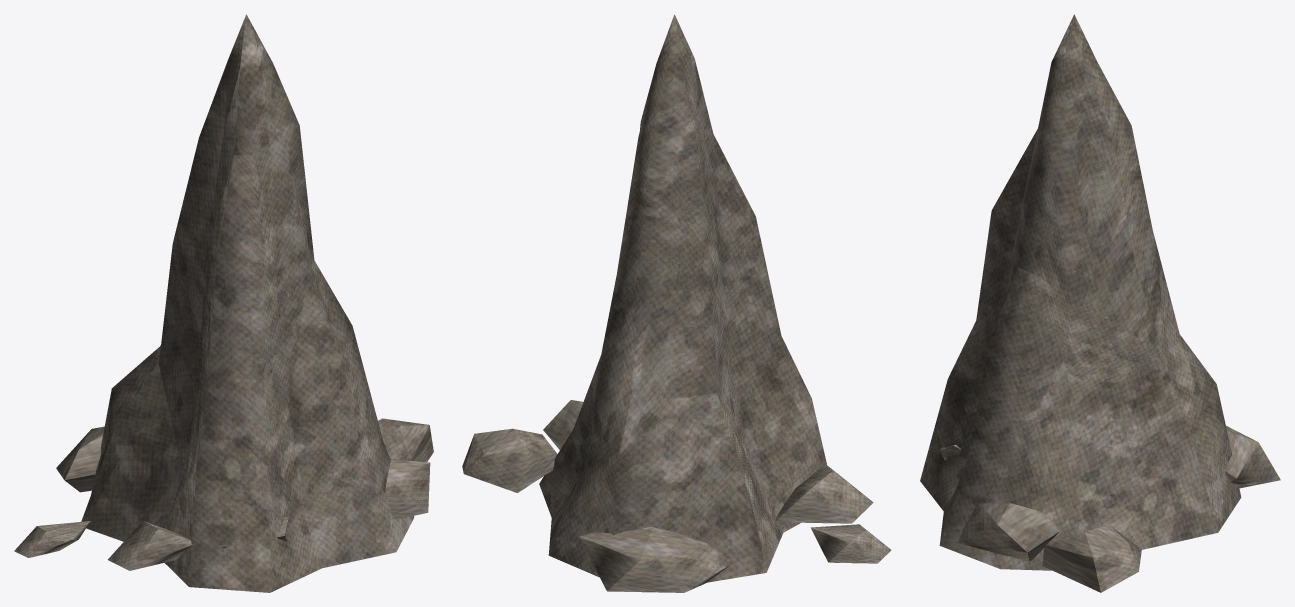
The model's file is ultiTierra.fbx.
3 renders of one model, left to right at view 1: azimuth 30°, elevation 25°; view 2: azimuth 150°, elevation 25°; view 3: azimuth 270°, elevation 25°, orthographic. The views are drawn at different scales.
Visible parts, largest first — view 1: m8, m4, m2, m5, m0, m1; view 2: m8, m0, m5, m4, m1, m2; view 3: m8, m5, m2, m0.
Part boxes in pixels (x1,y1,x2,y2): m8: (81,14,414,592); m4: (108,521,192,570); m2: (386,459,430,518); m5: (378,418,433,461); m0: (56,426,104,492); m1: (14,521,90,557); m8: (539,14,826,582); m0: (579,526,733,592); m5: (462,428,557,492); m4: (775,464,873,523); m1: (810,524,891,563); m2: (543,400,583,449); m8: (920,14,1241,570); m5: (1042,525,1141,592); m2: (958,503,1060,561); m0: (1224,425,1280,488).
Size of the model in its own units: 44042 by 51361 by 33680.
9 materials, 9 textured.
